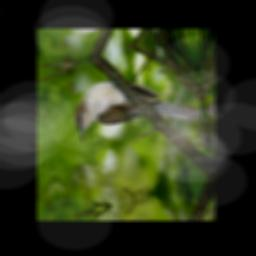Cuckoo: (69, 53, 203, 156)
